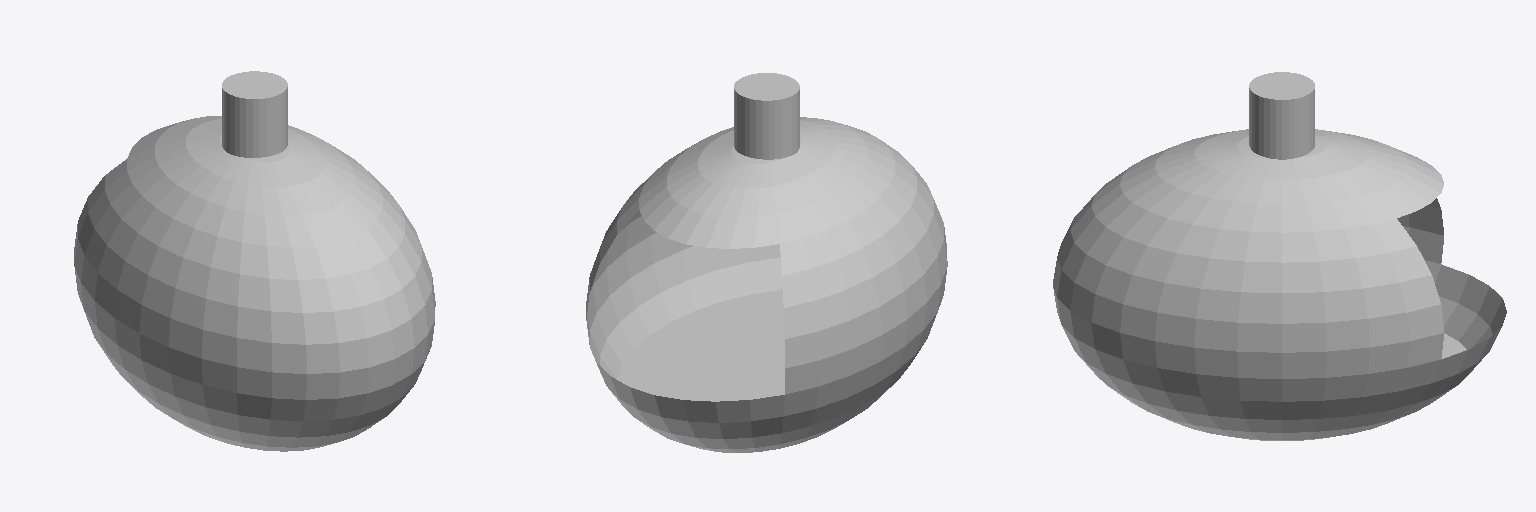
File: Helicopter.obj
3 renders of one model, left to right at view 1: azimuth 30°, elevation 25°; view 2: azimuth 150°, elevation 25°; view 3: azimuth 270°, elevation 25°, orthographic.
Visible parts, largest first — view 1: Sphere, Cylinder.006; view 2: Sphere, Cylinder.006; view 3: Sphere, Cylinder.006.
Boxes of the visible parts, x1,y1,x2,y2 form: Sphere: [74, 116, 435, 451]; Cylinder.006: [222, 71, 287, 157]; Sphere: [586, 117, 947, 452]; Cylinder.006: [734, 73, 799, 159]; Sphere: [1053, 129, 1506, 440]; Cylinder.006: [1249, 72, 1314, 159].
Bounding box in the file's own units: 2 × 2.31 × 2.8.